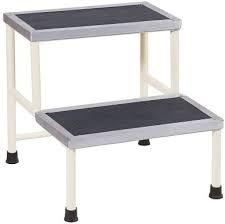stool: (2, 0, 225, 223)
